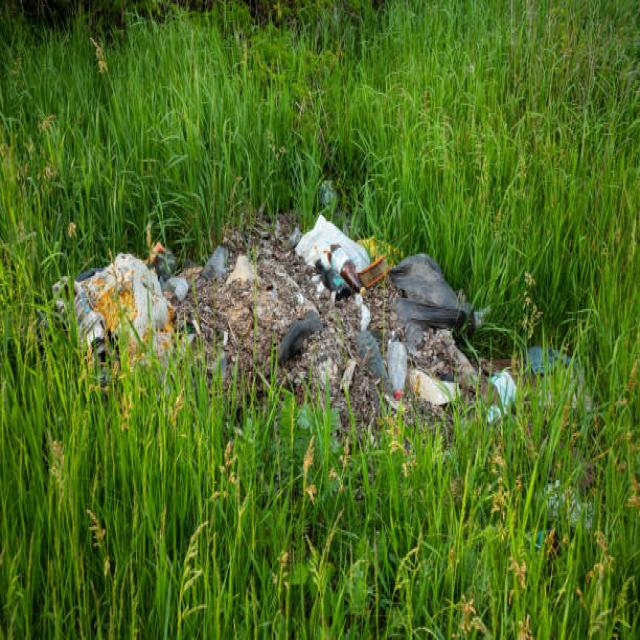glass: (331, 243, 361, 298)
plastic: (366, 337, 410, 391)
trash: (403, 262, 452, 320)
